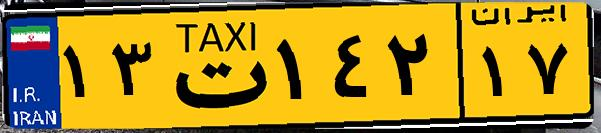1: (270, 28, 330, 110), (57, 26, 110, 100), (475, 38, 525, 113)
2: (385, 28, 445, 110)
3: (110, 28, 158, 98)
4: (330, 28, 385, 110)
7: (525, 38, 570, 115)
ت: (158, 12, 270, 120)
